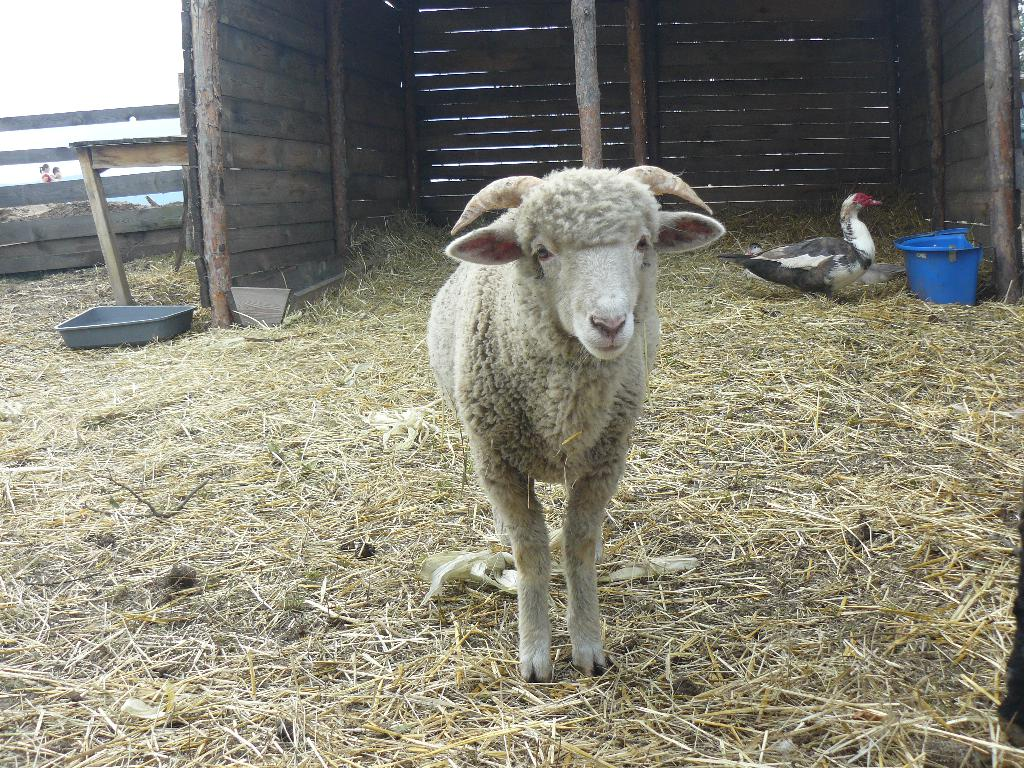sheep: (408, 151, 723, 693)
